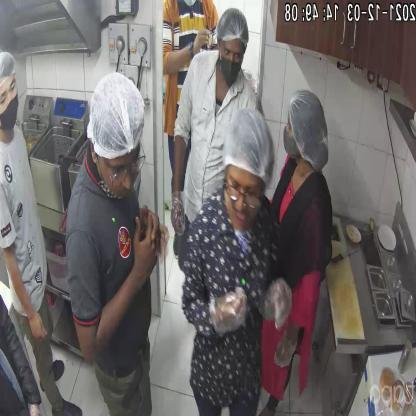no_apron: (78, 184, 154, 382), (195, 209, 269, 403), (176, 53, 253, 233), (0, 130, 58, 306), (268, 164, 323, 330)
